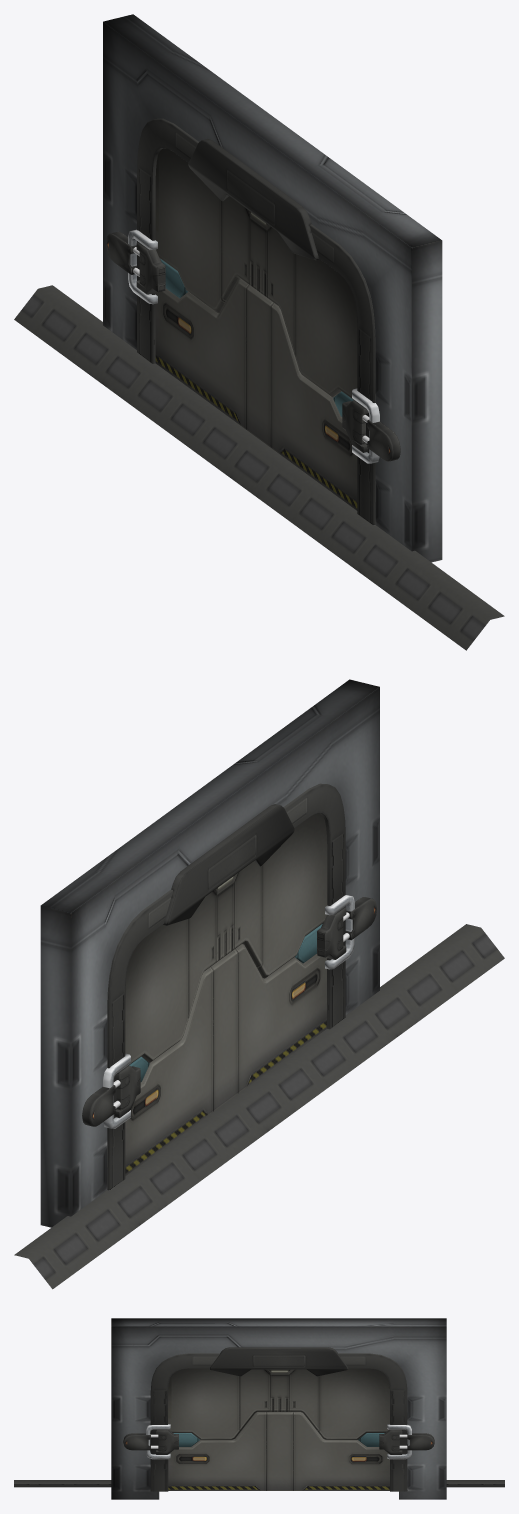
Rendered from JIJIAKU_6_2.FBX.
3 renders of one model, top to bottom at view 1: azimuth 30°, elevation 25°; view 2: azimuth 150°, elevation 25°; view 3: azimuth 270°, elevation 25°, orthographic. The views are drawn at different scales.
Visible parts, largest first — view 1: JK_069, JK_070, JK_183, JK_182, JK_185, JK_184, JK_189, JK_351; view 2: JK_069, JK_070, JK_183, JK_182, JK_184, JK_185, JK_351, JK_189; view 3: JK_069, JK_182, JK_183, JK_070, JK_185, JK_184, JK_189, JK_351, JK_187, JK_186.
Boxes of the visible parts, left/top/right/bottom form: JK_069: left=103, top=14, right=442, bottom=562; JK_070: left=14, top=285, right=504, bottom=650; JK_183: left=155, top=279, right=357, bottom=510; JK_182: left=155, top=148, right=357, bottom=399; JK_185: left=352, top=388, right=400, bottom=463; JK_184: left=106, top=229, right=157, bottom=304; JK_189: left=133, top=242, right=165, bottom=294; JK_351: left=342, top=400, right=369, bottom=452; JK_069: left=40, top=679, right=379, bottom=1227; JK_070: left=14, top=924, right=504, bottom=1289; JK_183: left=125, top=944, right=327, bottom=1175; JK_182: left=125, top=813, right=327, bottom=1065; JK_184: left=82, top=1053, right=130, bottom=1128; JK_185: left=325, top=895, right=376, bottom=969; JK_351: left=317, top=907, right=349, bottom=959; JK_189: left=113, top=1065, right=140, bottom=1118; JK_069: left=111, top=1318, right=446, bottom=1499; JK_182: left=168, top=1368, right=389, bottom=1439; JK_183: left=168, top=1412, right=389, bottom=1490; JK_070: left=14, top=1480, right=504, bottom=1487; JK_185: left=123, top=1424, right=170, bottom=1459; JK_184: left=387, top=1424, right=434, bottom=1459; JK_189: left=379, top=1429, right=407, bottom=1454; JK_351: left=151, top=1429, right=178, bottom=1454; JK_187: left=358, top=1433, right=384, bottom=1446; JK_186: left=173, top=1433, right=199, bottom=1446.
Size of the model in its own units: 2.72 by 11.53 by 28.76.
